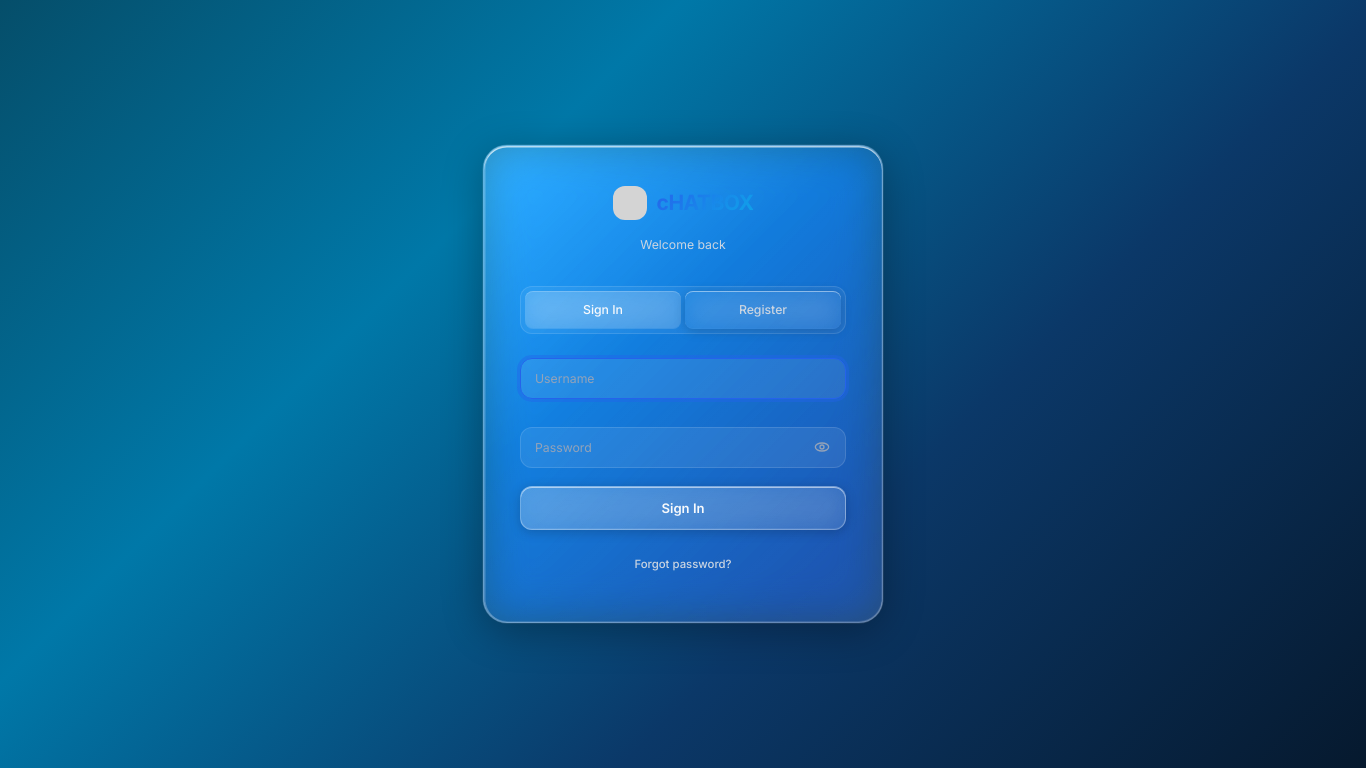
Test case: LoginPage › displays error message on login failure
In the field with placeholder "Username": (683, 378) [520, 358, 846, 399], type "alice"
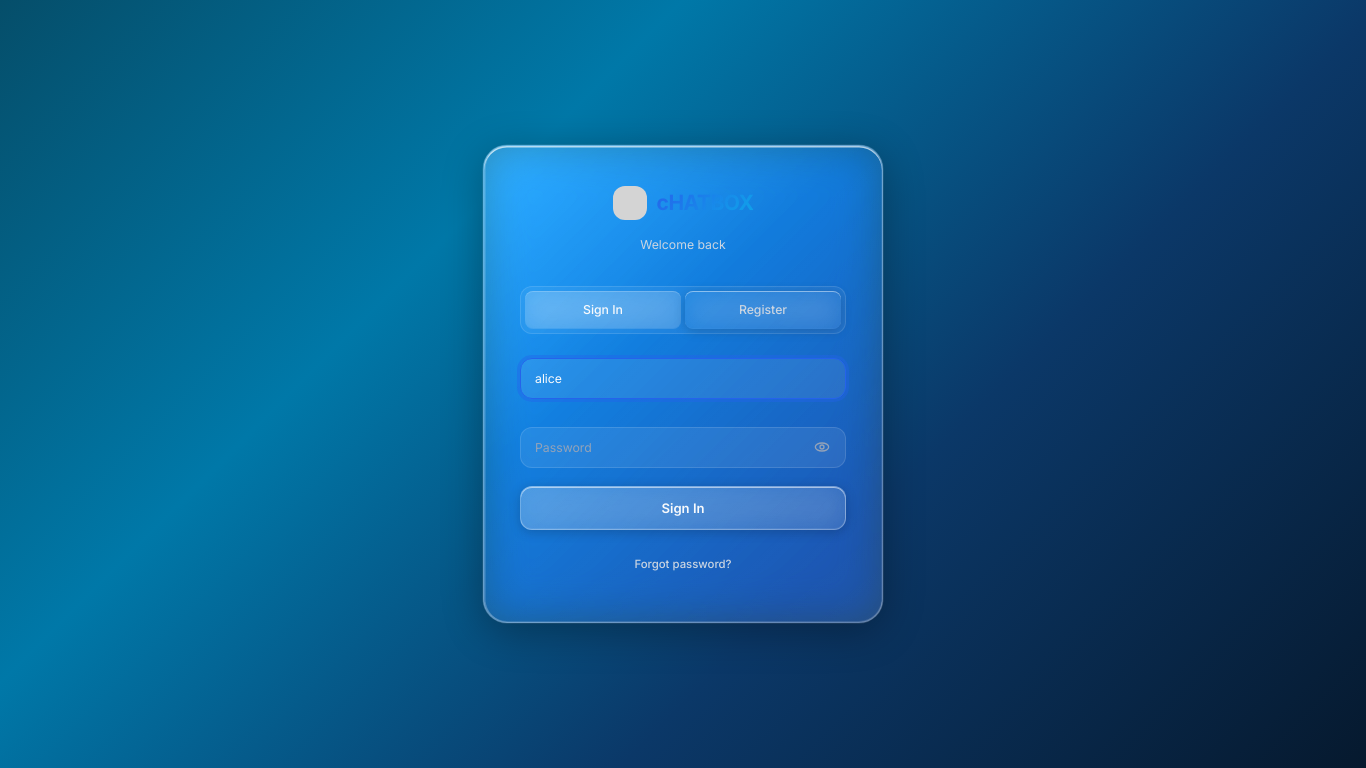
In the password field with placeholder "Password": (683, 447) [520, 427, 846, 468], type "wrong"
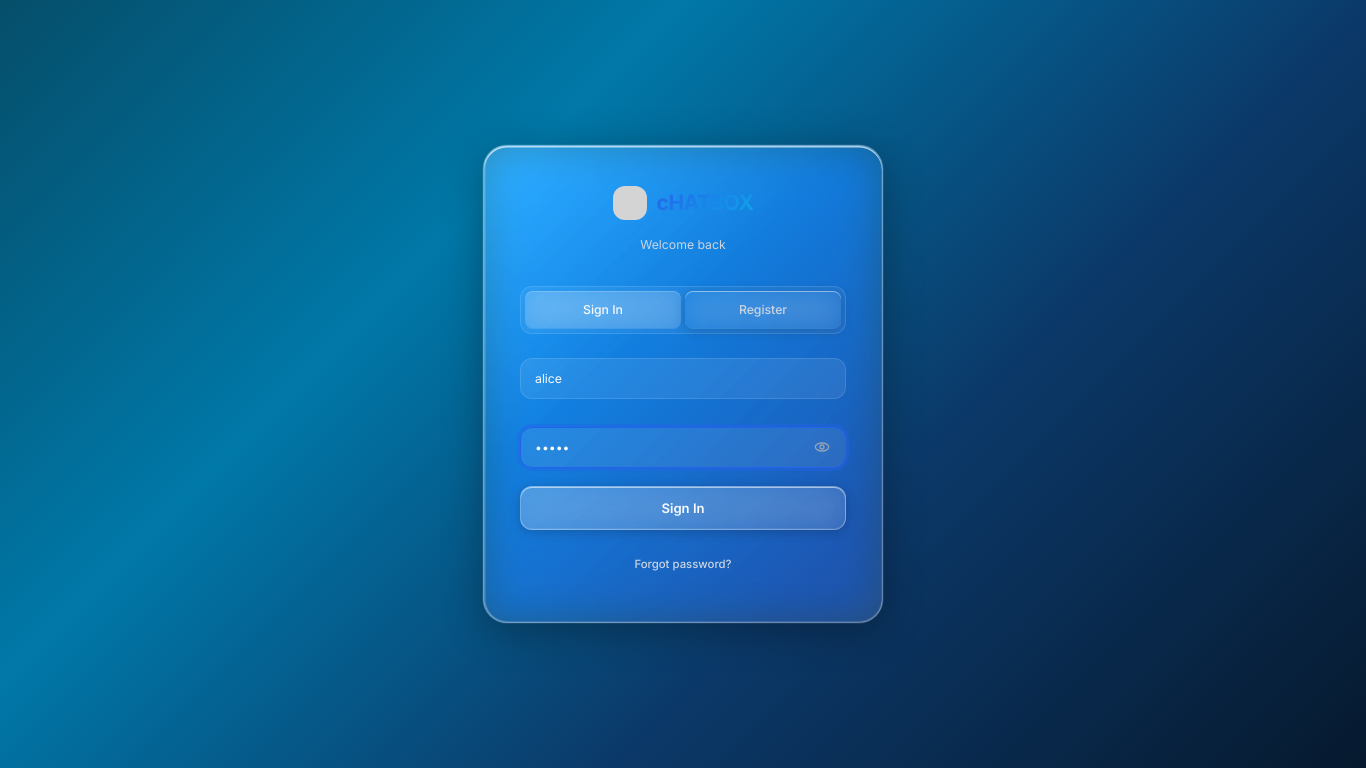
Click the 2nd button "Sign In": (683, 508) [520, 486, 846, 530]
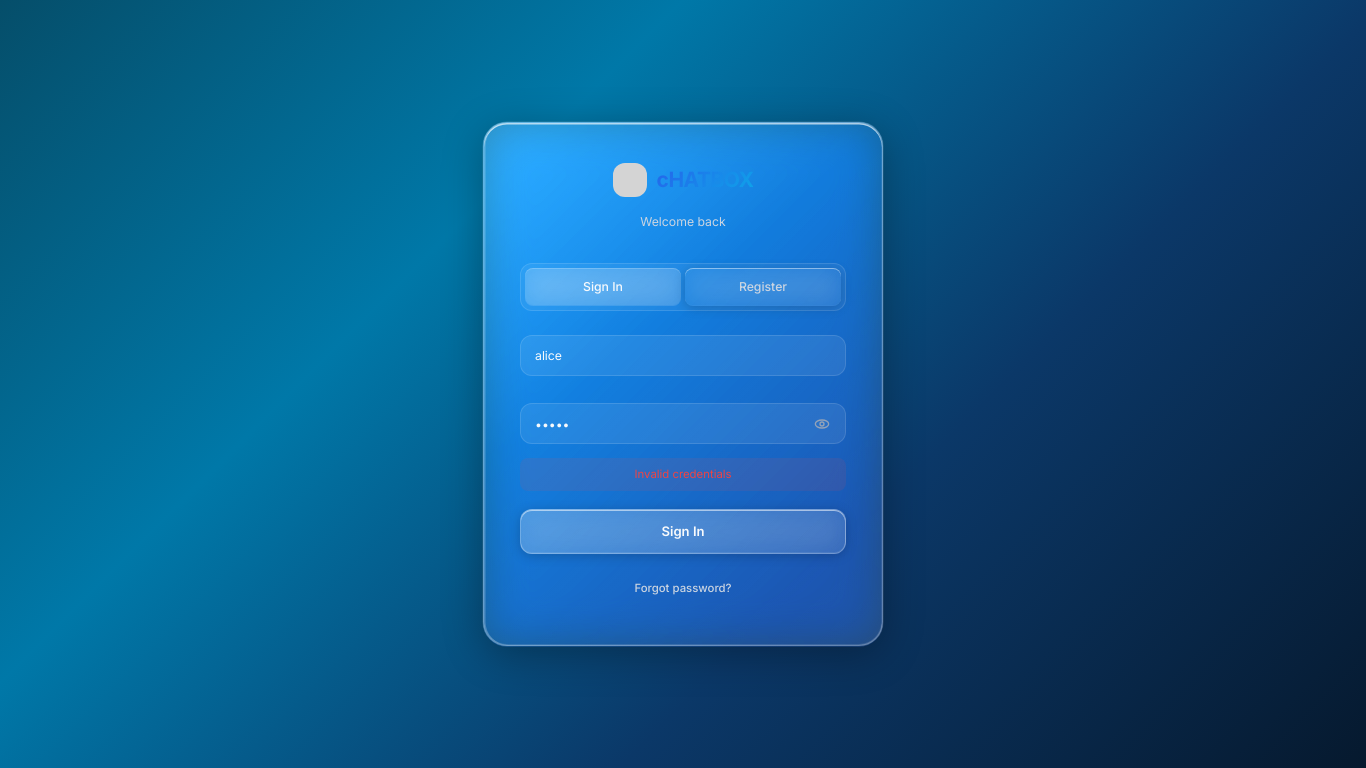
Check: the text "Invalid credentials" is shown, box [520, 458, 846, 491]
